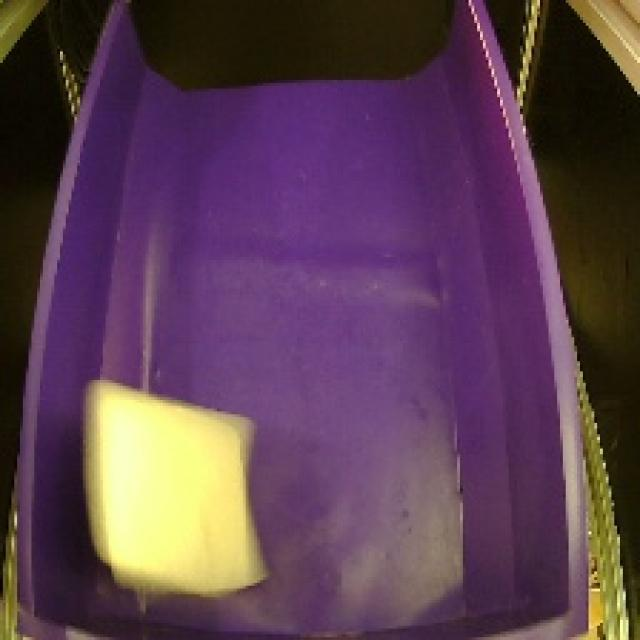white_radish: (76, 362, 284, 607)
